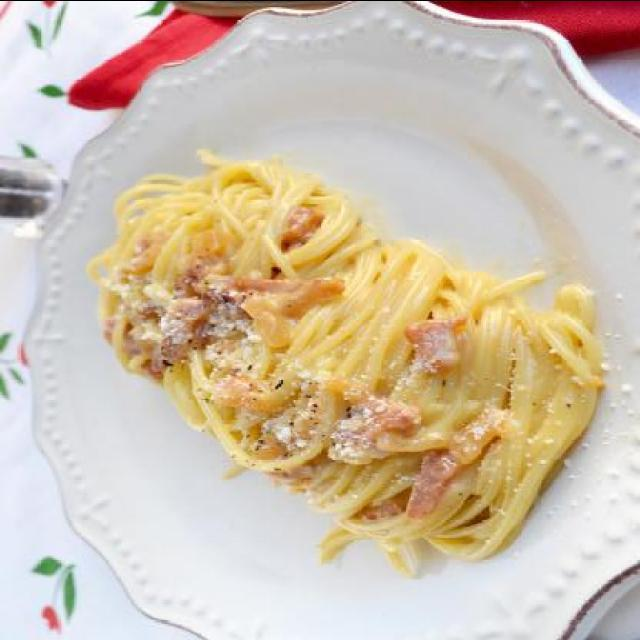Pasta with carbonara sauce: (84, 107, 602, 591)
